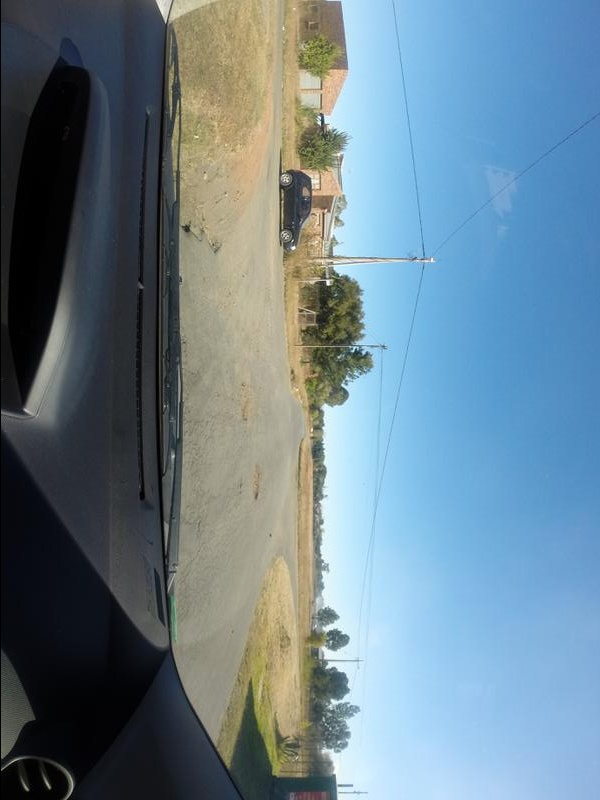pothole: (187, 188, 222, 265), (229, 379, 258, 426), (245, 464, 267, 504)
